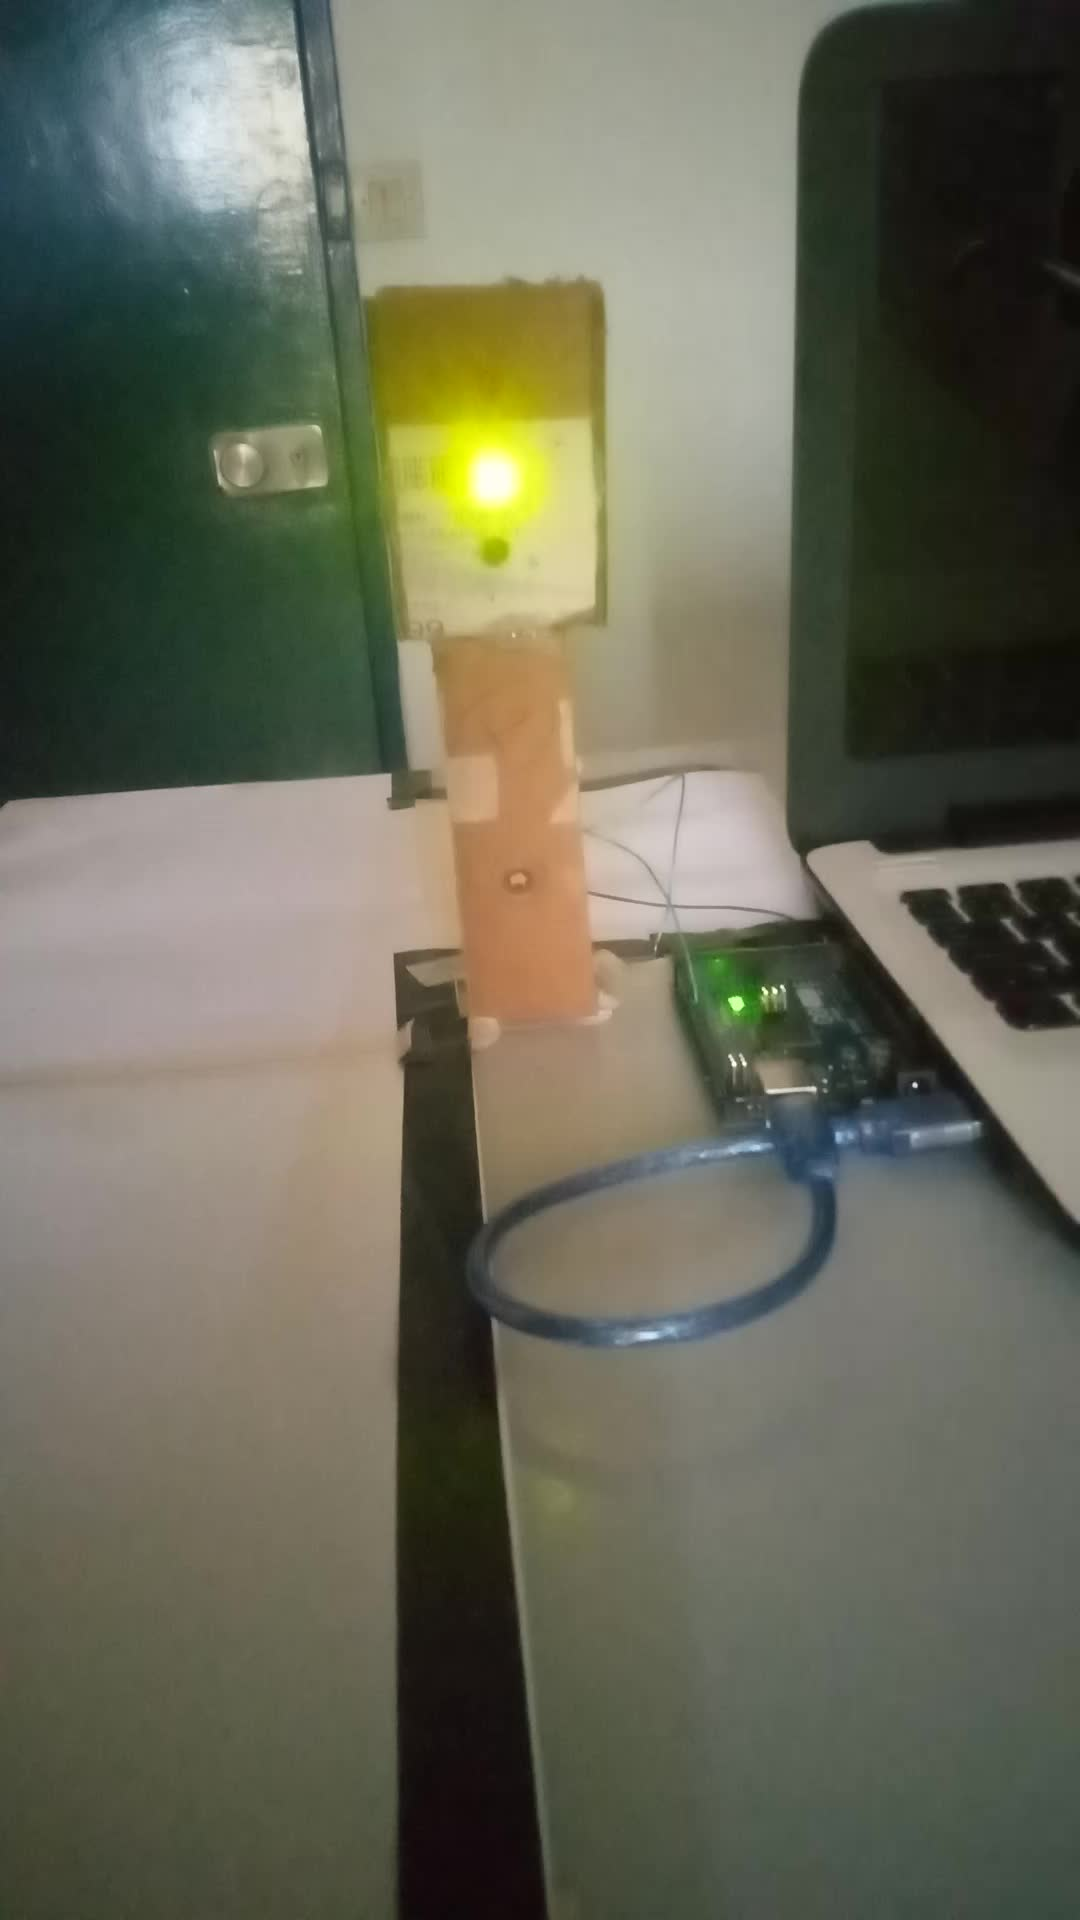yellow: (367, 297, 611, 620)
